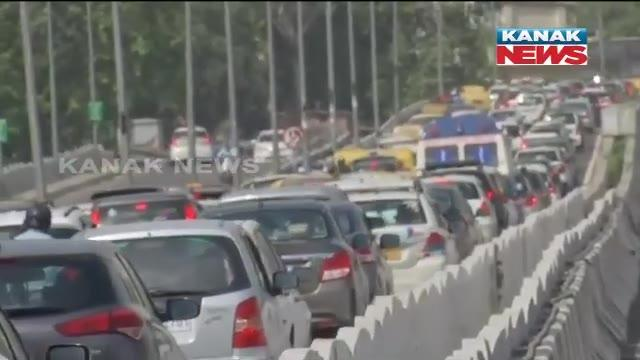AMBULANCE: (409, 117, 515, 165)
